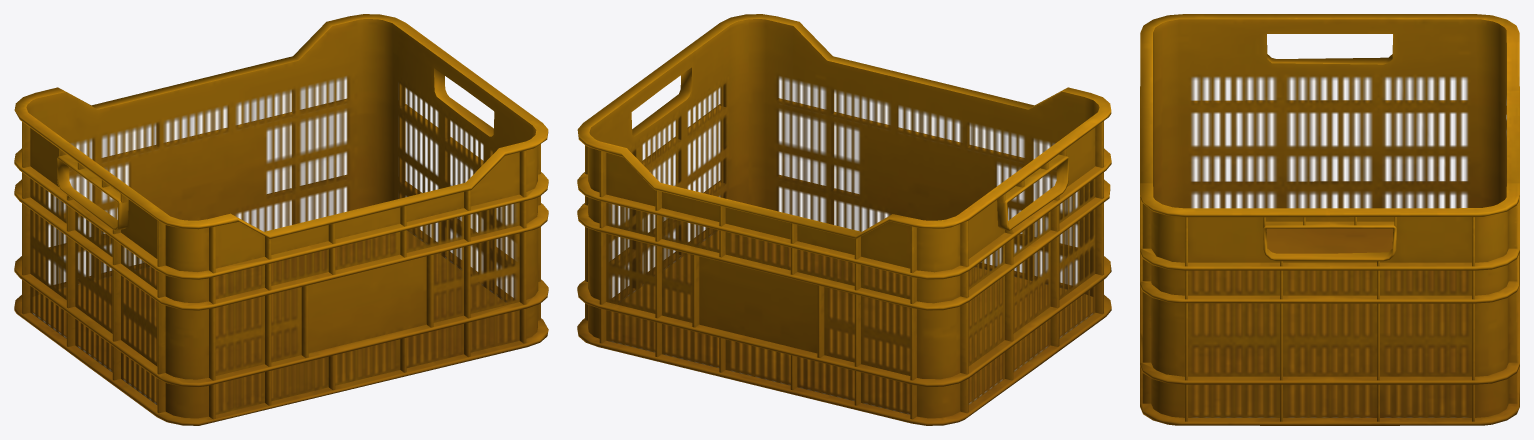
Rendered from plastic_crate_02.glb.
3 renders of one model, left to right at view 1: azimuth 30°, elevation 25°; view 2: azimuth 150°, elevation 25°; view 3: azimuth 270°, elevation 25°, orthographic. The views are drawn at different scales.
Parts seen in each view (by area): view 1: plastic_crate_02; view 2: plastic_crate_02; view 3: plastic_crate_02.
Part boxes in pixels (<box>): plastic_crate_02: <box>14,14,548,425</box>; plastic_crate_02: <box>577,14,1111,425</box>; plastic_crate_02: <box>1140,14,1519,425</box>.
Size of the model in its own units: 0.5055 by 0.2541 by 0.4055.
Materials: 1 (1 with a texture image).
